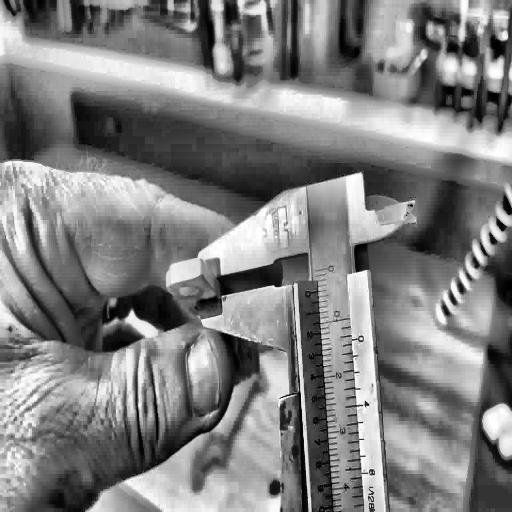busbar: (156, 249, 270, 422)
